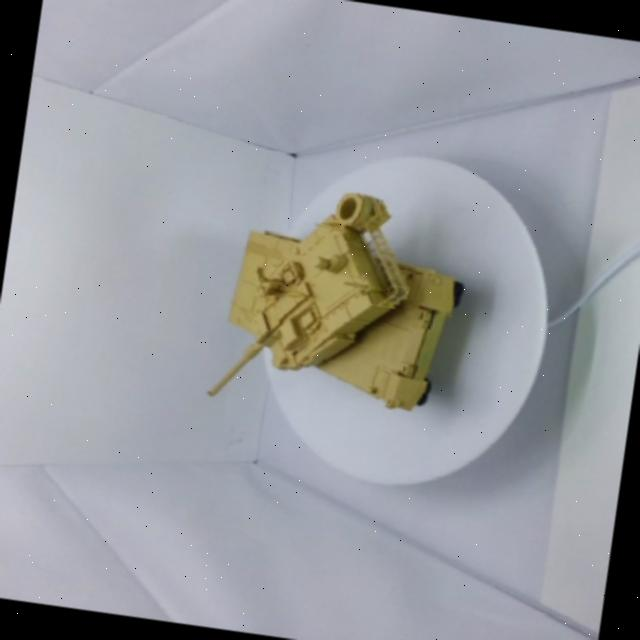korea tank: (158, 142, 495, 509)
